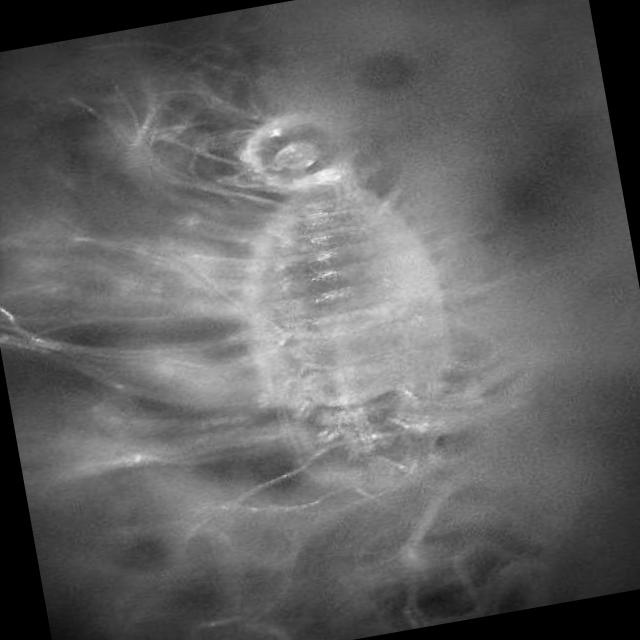Aphids: (126, 108, 537, 616)
